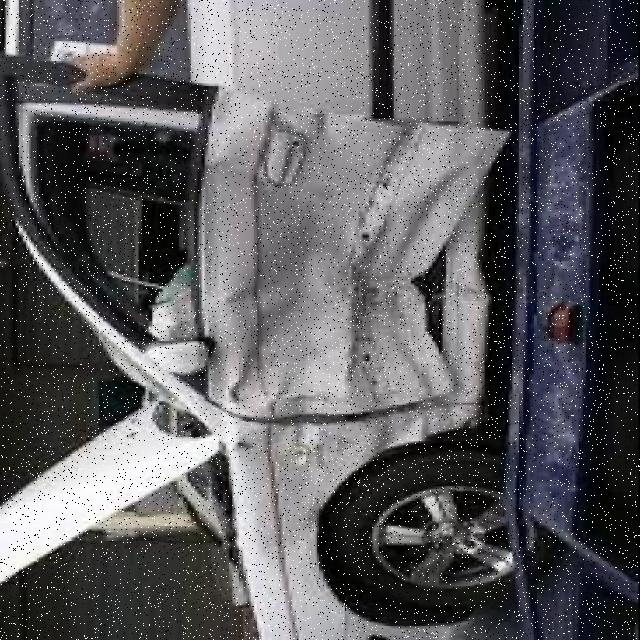damage: (193, 102, 518, 574)
